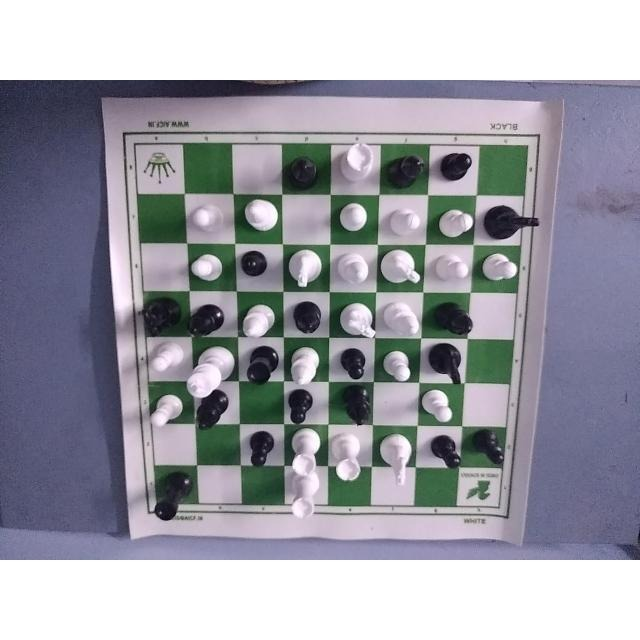black-bishop: (385, 148, 427, 191), (435, 298, 479, 338), (186, 300, 225, 341), (282, 148, 318, 192), (191, 401, 231, 436), (292, 301, 324, 337), (343, 385, 370, 427)
black-knight: (486, 196, 538, 240), (424, 342, 468, 384), (138, 298, 182, 338)
black-pawn: (426, 427, 468, 475), (468, 426, 507, 473), (438, 141, 474, 186), (244, 426, 278, 470), (285, 389, 321, 423), (337, 345, 368, 379), (242, 246, 269, 276)
black-rook: (149, 476, 195, 520), (242, 350, 278, 392)
white-bishop: (378, 294, 422, 338), (240, 288, 274, 339), (238, 197, 281, 237), (336, 250, 372, 292), (292, 347, 328, 389)
white-king: (190, 352, 234, 395)
white-knight: (378, 427, 416, 486), (285, 245, 329, 291), (378, 246, 422, 288), (336, 297, 376, 339)
white-pawn: (482, 248, 518, 295), (434, 246, 470, 288), (436, 201, 471, 239), (379, 347, 414, 385), (425, 386, 458, 426), (191, 201, 223, 239), (188, 250, 220, 286), (154, 391, 182, 431), (155, 344, 181, 378), (338, 204, 366, 235), (392, 206, 418, 238)
white-rook: (336, 138, 377, 187), (330, 434, 366, 482), (290, 479, 318, 526), (290, 429, 318, 475)
